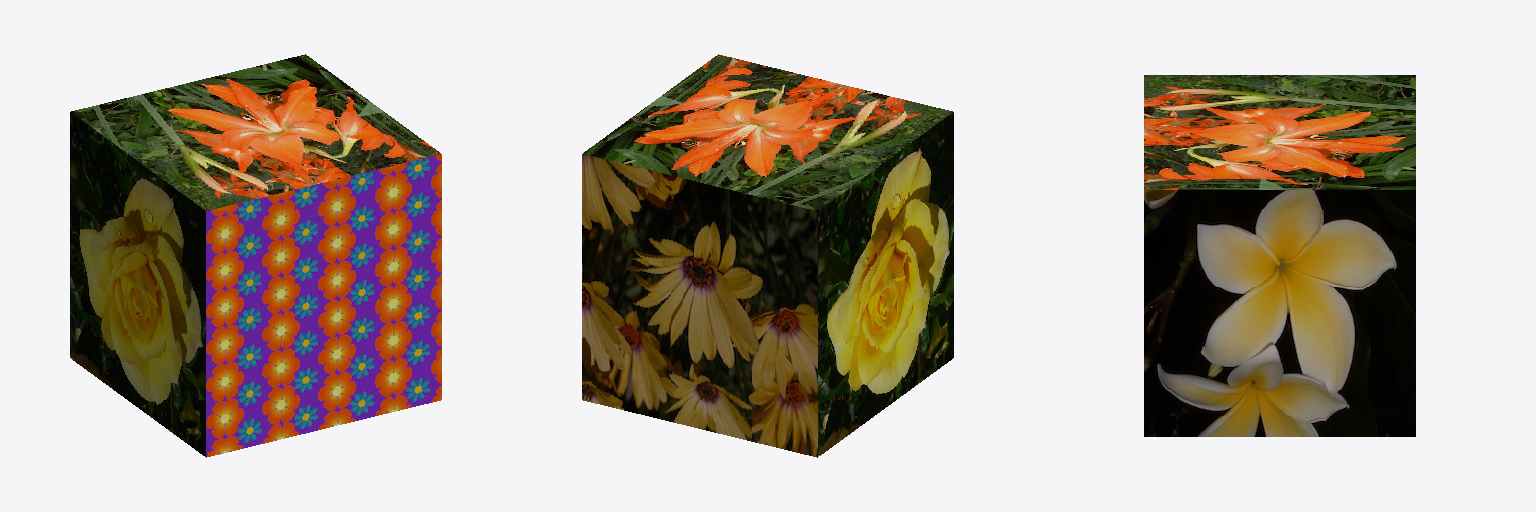
The picture shows the model from 3 angles: view 1: azimuth 30°, elevation 25°; view 2: azimuth 150°, elevation 25°; view 3: azimuth 270°, elevation 25°; orthographic projection.
Bounding box in the file's own units: 1 × 1 × 1.
6 materials, 5 textured.